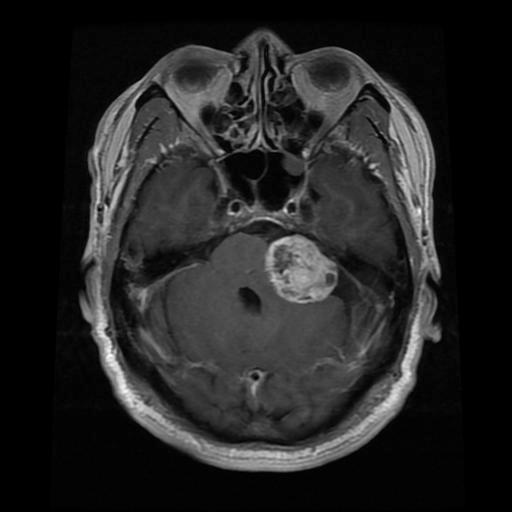Tumour-Meningioma: (251, 227, 355, 324)
